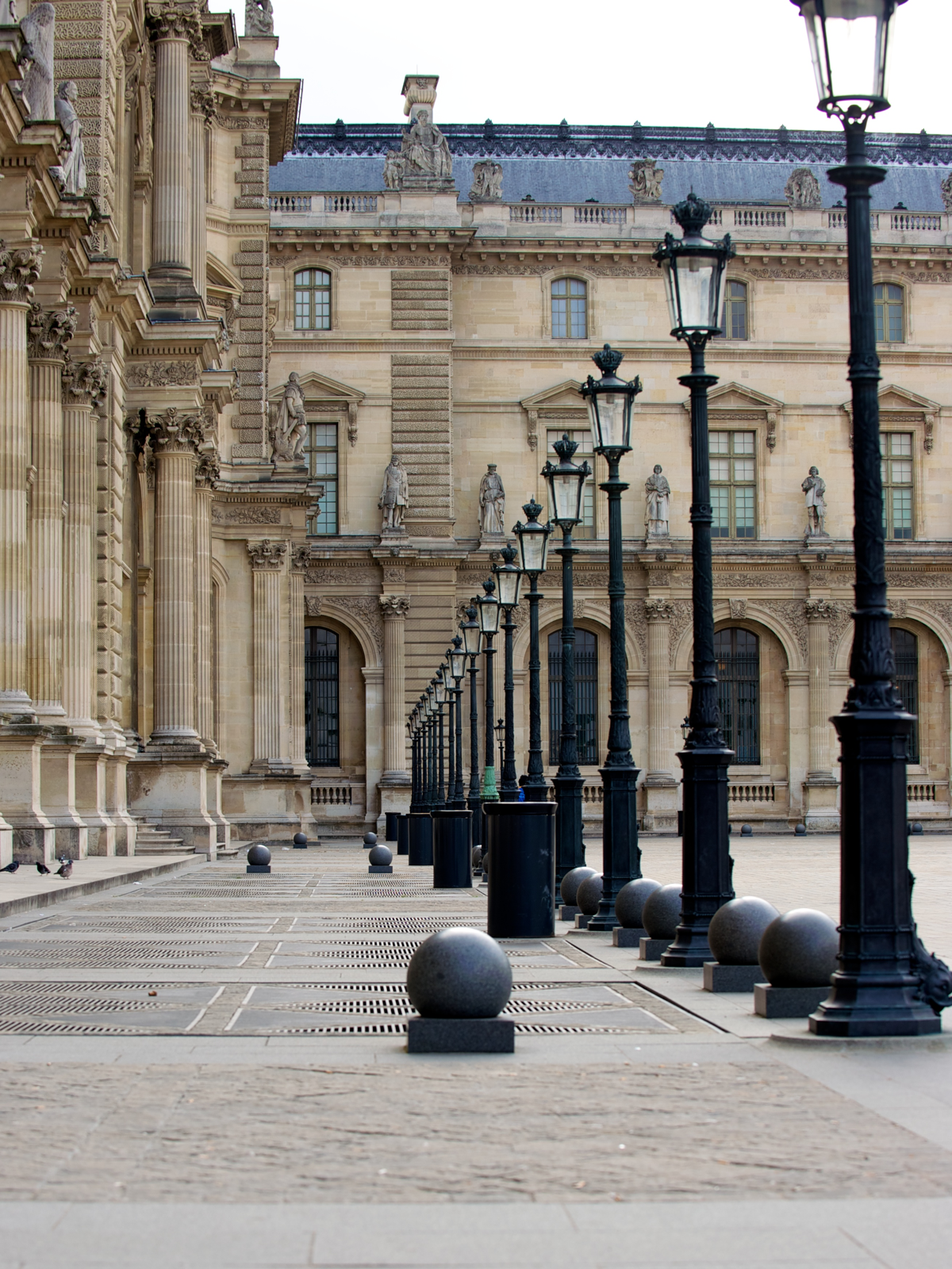fachada: (266, 91, 948, 833), (0, 0, 329, 845)
poste: (774, 0, 952, 1039), (631, 190, 789, 916), (551, 337, 686, 861), (520, 412, 611, 821), (381, 631, 500, 833), (488, 484, 559, 777)
